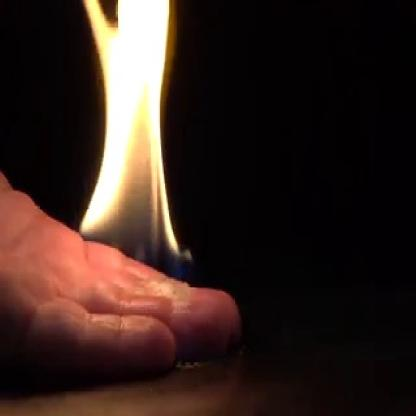fire: (76, 0, 194, 271)
